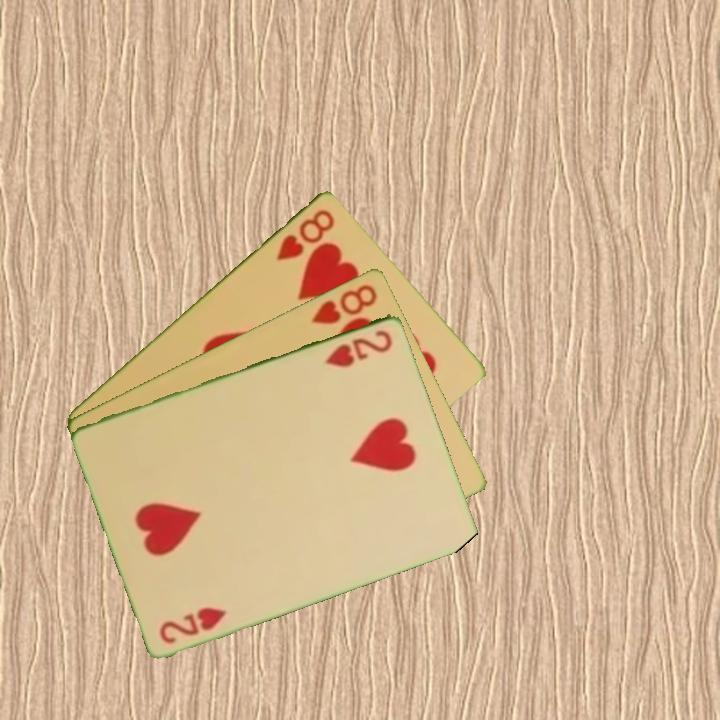2h: (321, 325, 396, 370), (156, 603, 230, 646)
8h: (273, 205, 338, 263), (308, 280, 380, 327)
